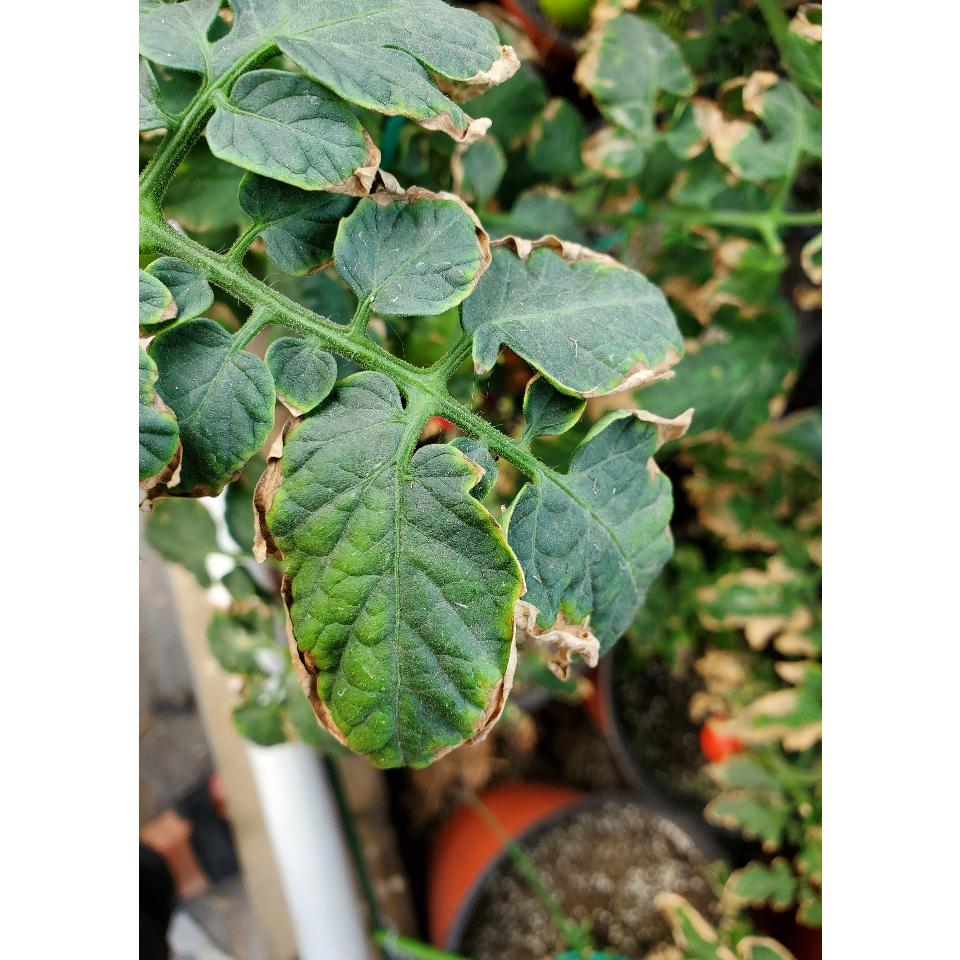tomato_bacterial_blight: (244, 394, 530, 780), (510, 407, 708, 665), (457, 221, 691, 396), (322, 177, 501, 319)
